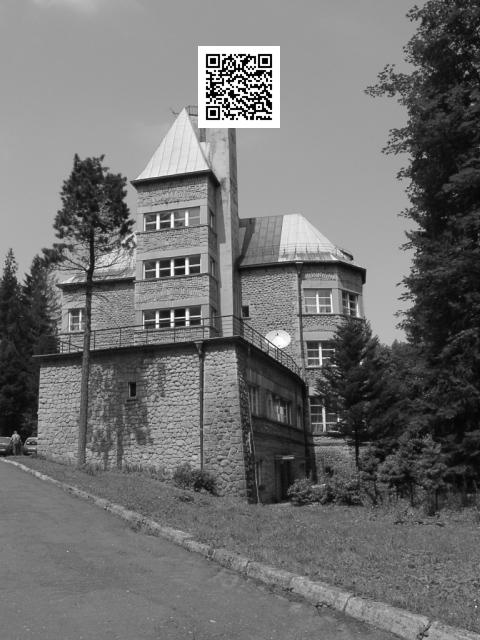qr_code: (197, 47, 280, 128)
